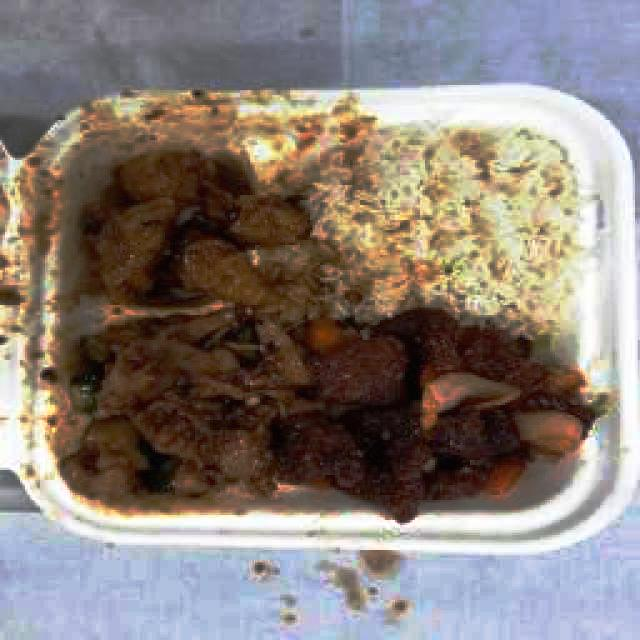Beijing Beef: (76, 312, 543, 520)
rice: (319, 156, 578, 294), (380, 134, 547, 152)
